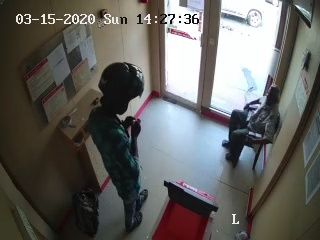helmet: (95, 62, 149, 114)
